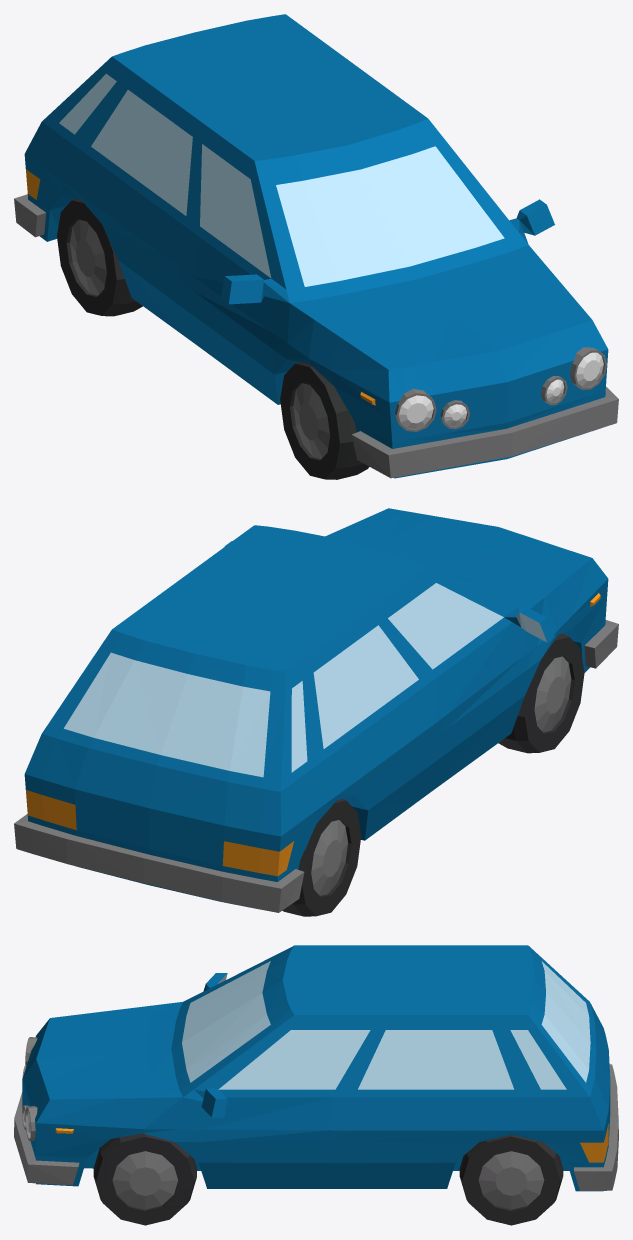
The model's file is traffic-hatch.glb.
3 views of the same model, one above another, from view 1: azimuth 30°, elevation 25°; view 2: azimuth 150°, elevation 25°; view 3: azimuth 270°, elevation 25° (orthographic). The views are drawn at different scales.
Visible parts, largest first — view 1: Car; view 2: Car; view 3: Car.
Boxes of the visible parts, <box> form: Car: <box>14,14,618,479</box>; Car: <box>14,508,618,916</box>; Car: <box>14,945,618,1225</box>.
Size of the model in its own units: 45.51 by 32.32 by 89.11.
Materials: 1 (1 with a texture image).
